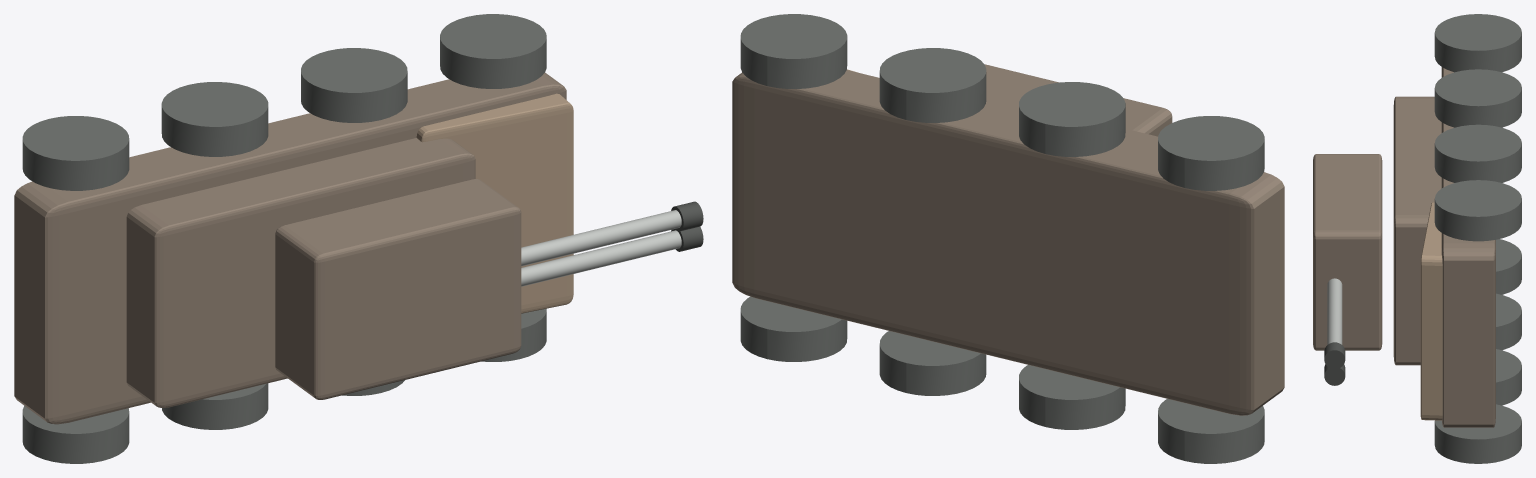
Rendered from d-u12-dominion-assault-vehicle-lod1.glb.
3 views of the same model, side by side, from view 1: azimuth 30°, elevation 25°; view 2: azimuth 150°, elevation 25°; view 3: azimuth 270°, elevation 25° (orthographic). The views are drawn at different scales.
Parts seen in each view (by area): view 1: assault_turret, chassis_lower, upper_hull, chassis_nose, chassis_wheel_1_0, chassis_wheel_1_1, chassis_wheel_1_3, chassis_wheel_1_2, chassis_wheel_-1_0, chassis_wheel_-1_1, autocannon_barrel_0, autocannon_barrel_1 (+1 smaller); view 2: chassis_lower, chassis_wheel_1_2, chassis_wheel_1_3, chassis_wheel_1_0, chassis_wheel_1_1, chassis_wheel_-1_0, chassis_wheel_-1_2, chassis_wheel_-1_3, chassis_wheel_-1_1, assault_turret, upper_hull; view 3: assault_turret, chassis_lower, upper_hull, chassis_wheel_1_3, chassis_wheel_1_0, chassis_wheel_1_1, chassis_wheel_1_2, chassis_nose, chassis_wheel_-1_3, chassis_wheel_-1_1, chassis_wheel_-1_2, chassis_wheel_-1_0 (+3 smaller).
Boxes of the visible parts, x1,y1,x2,y2 form: assault_turret: (275, 179, 521, 399); chassis_lower: (14, 72, 566, 424); upper_hull: (126, 138, 475, 408); chassis_nose: (416, 93, 573, 313); chassis_wheel_1_0: (22, 116, 129, 190); chassis_wheel_1_1: (161, 82, 268, 156); chassis_wheel_1_3: (440, 14, 546, 88); chassis_wheel_1_2: (301, 48, 407, 122); chassis_wheel_-1_0: (22, 406, 129, 463); chassis_wheel_-1_1: (162, 383, 268, 429); autocannon_barrel_0: (521, 230, 681, 286); autocannon_barrel_1: (521, 210, 681, 266); chassis_lower: (732, 70, 1284, 415); chassis_wheel_1_2: (879, 48, 986, 122); chassis_wheel_1_3: (740, 14, 847, 88); chassis_wheel_1_0: (1158, 116, 1264, 190); chassis_wheel_1_1: (1019, 82, 1125, 156); chassis_wheel_-1_0: (1158, 399, 1264, 463); chassis_wheel_-1_2: (879, 331, 986, 395); chassis_wheel_-1_3: (740, 296, 847, 361); chassis_wheel_-1_1: (1019, 365, 1125, 429); assault_turret: (984, 64, 1172, 136); upper_hull: (986, 95, 1157, 145); assault_turret: (1313, 154, 1382, 350); chassis_lower: (1441, 67, 1495, 427); upper_hull: (1393, 96, 1441, 365); chassis_wheel_1_3: (1434, 180, 1521, 241); chassis_wheel_1_0: (1434, 14, 1521, 72); chassis_wheel_1_1: (1434, 69, 1521, 127); chassis_wheel_1_2: (1434, 124, 1521, 182); chassis_nose: (1420, 202, 1442, 420); chassis_wheel_-1_3: (1434, 404, 1521, 463); chassis_wheel_-1_1: (1496, 293, 1521, 350); chassis_wheel_-1_2: (1496, 349, 1521, 405); chassis_wheel_-1_0: (1496, 239, 1521, 294).
Size of what is drawn, in the model's own units: 6.61 by 3.27 by 2.51.
